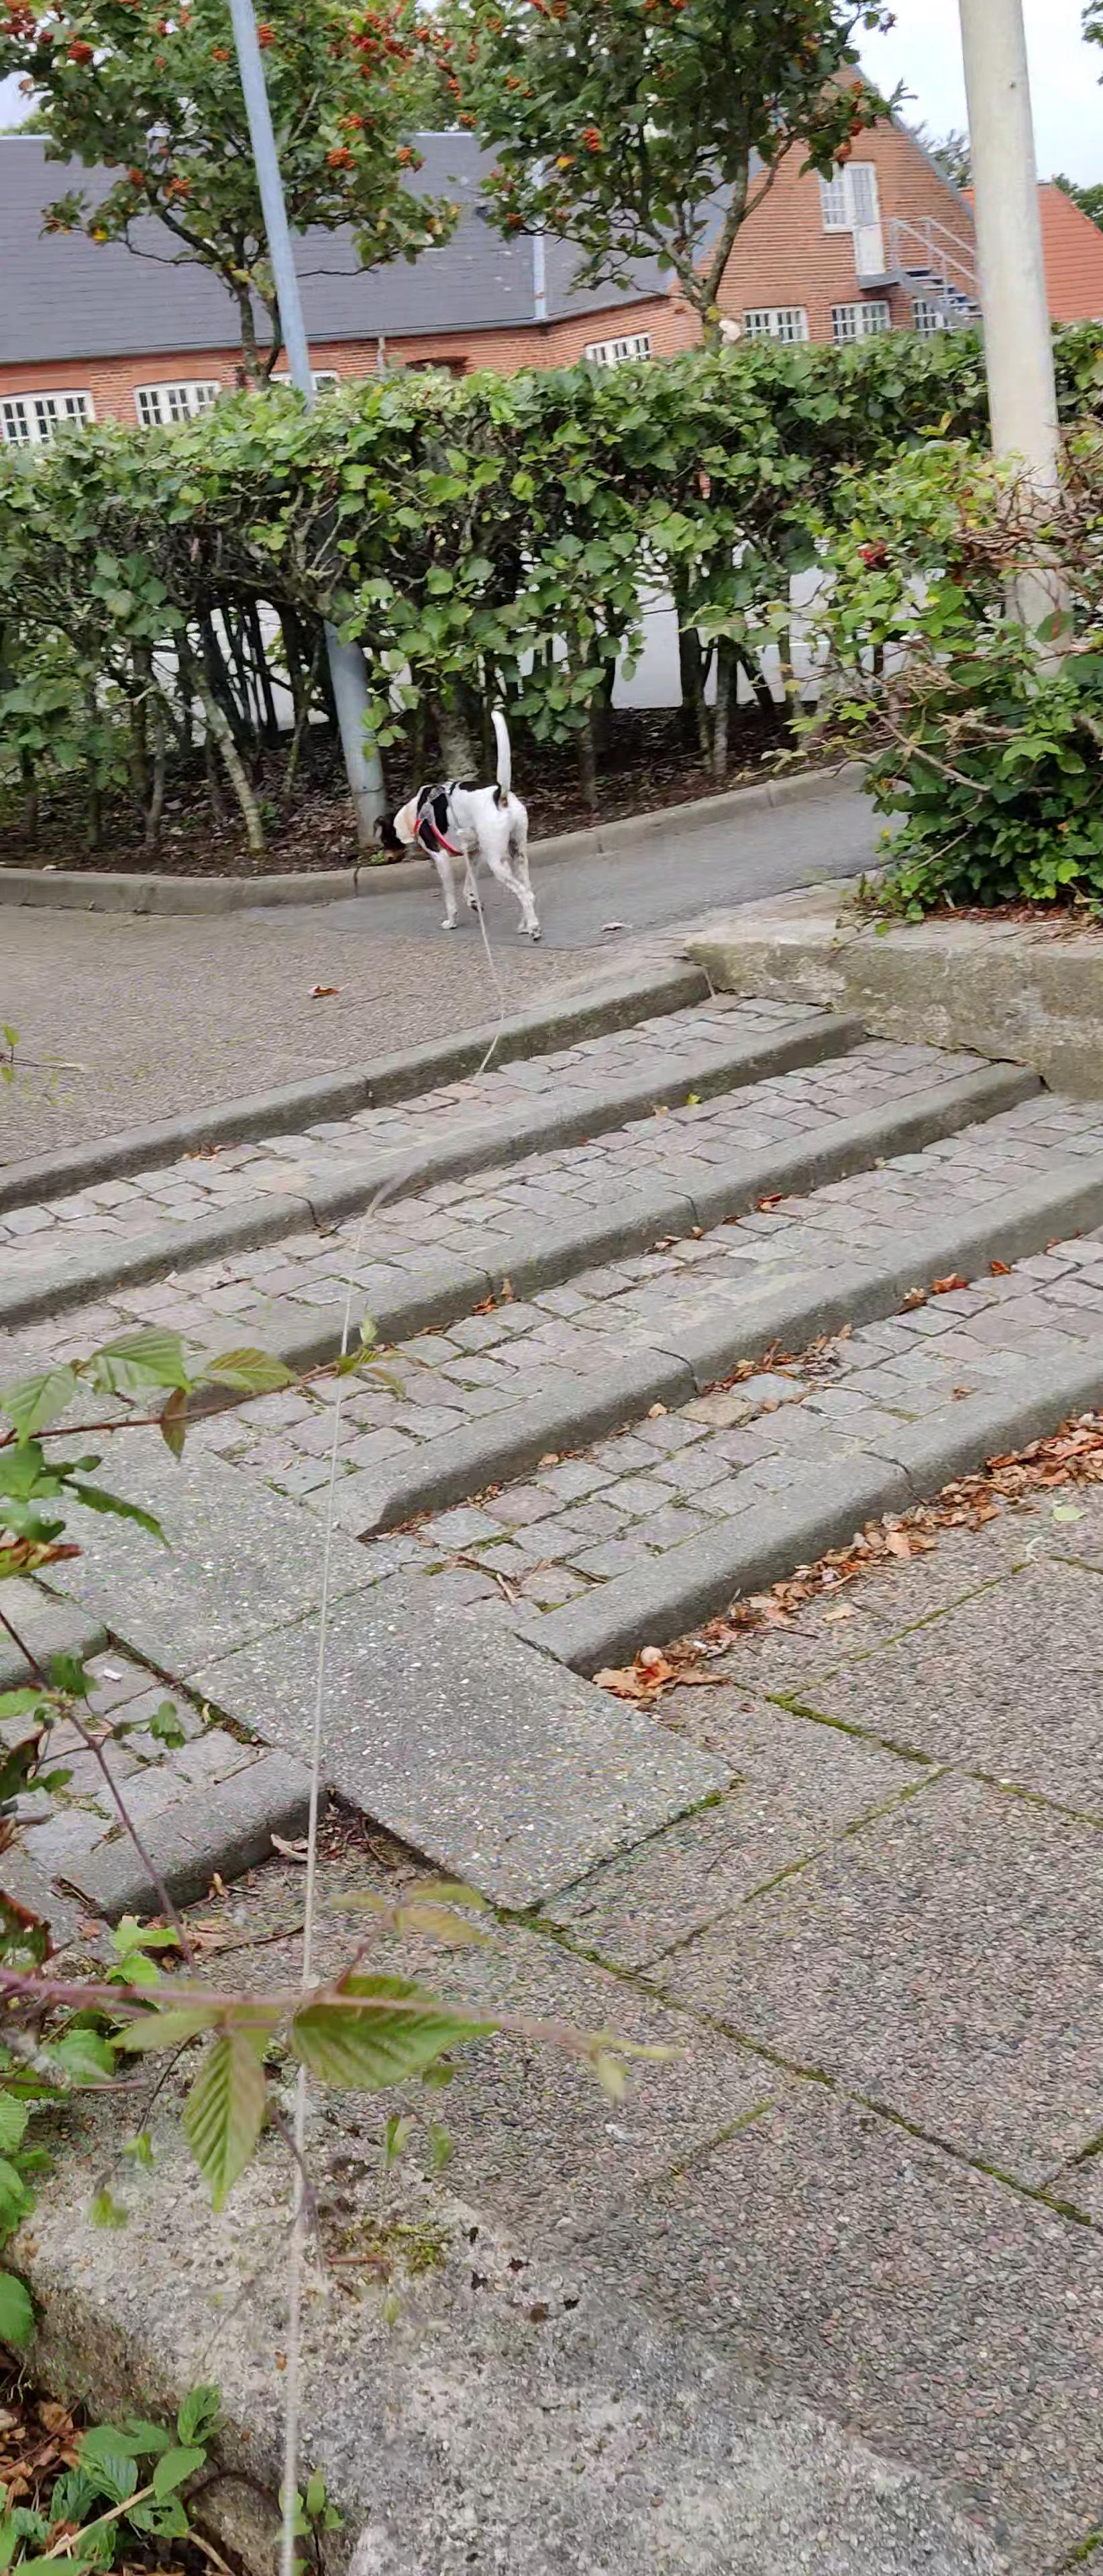Dog: (363, 698, 559, 945)
